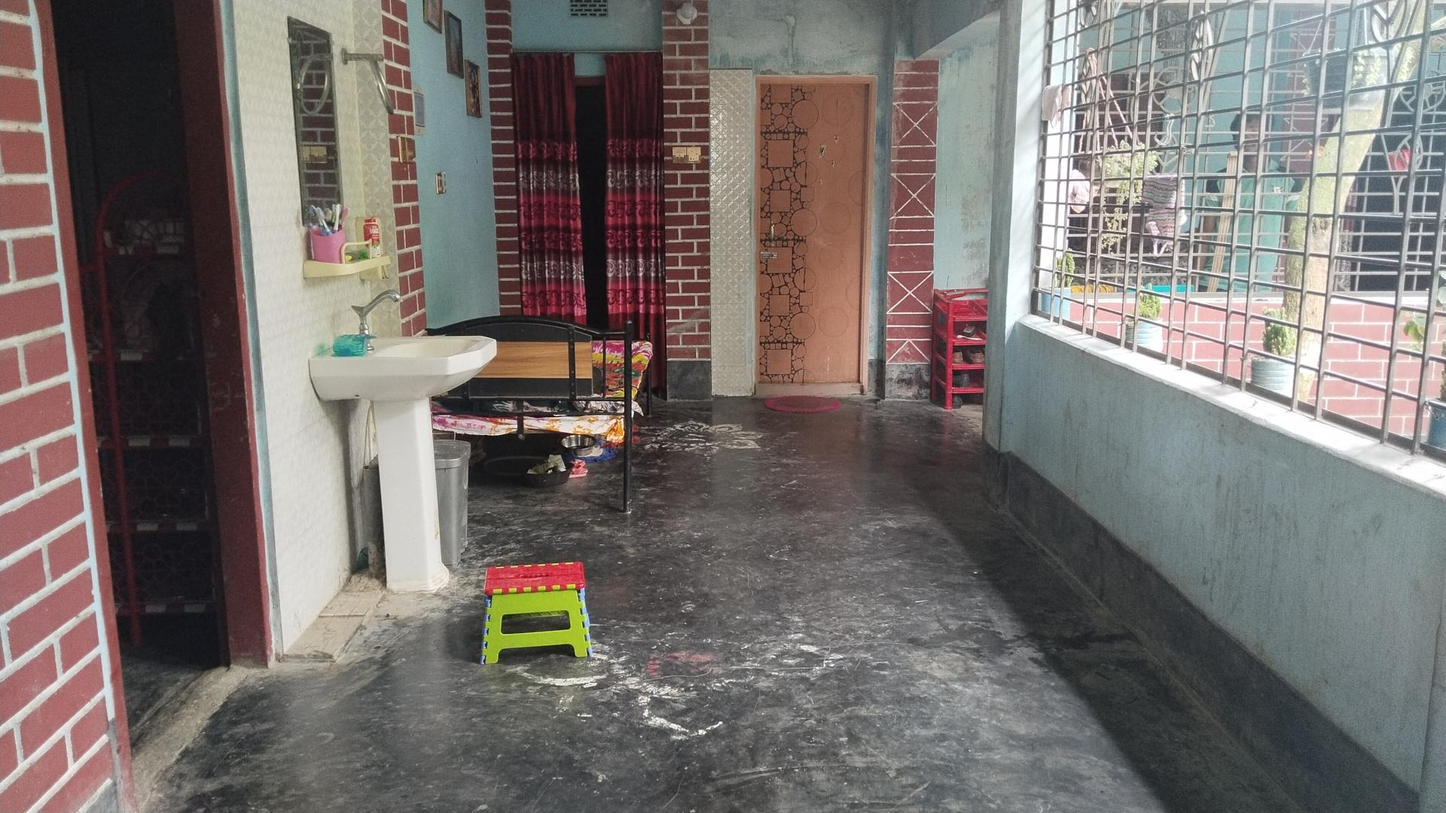Door: (755, 76, 867, 397)
Stool: (477, 560, 602, 666)
